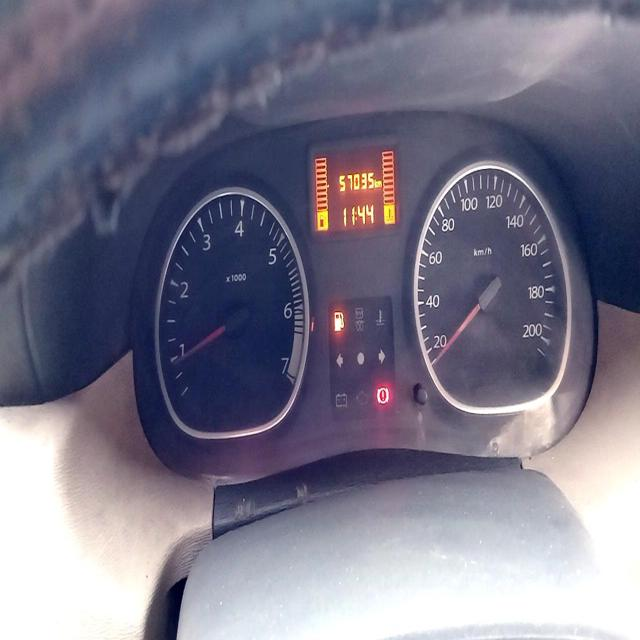odometer: (337, 168, 375, 193)
